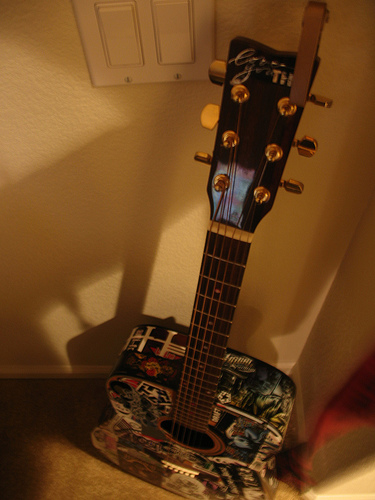guitar: (88, 45, 325, 500)
